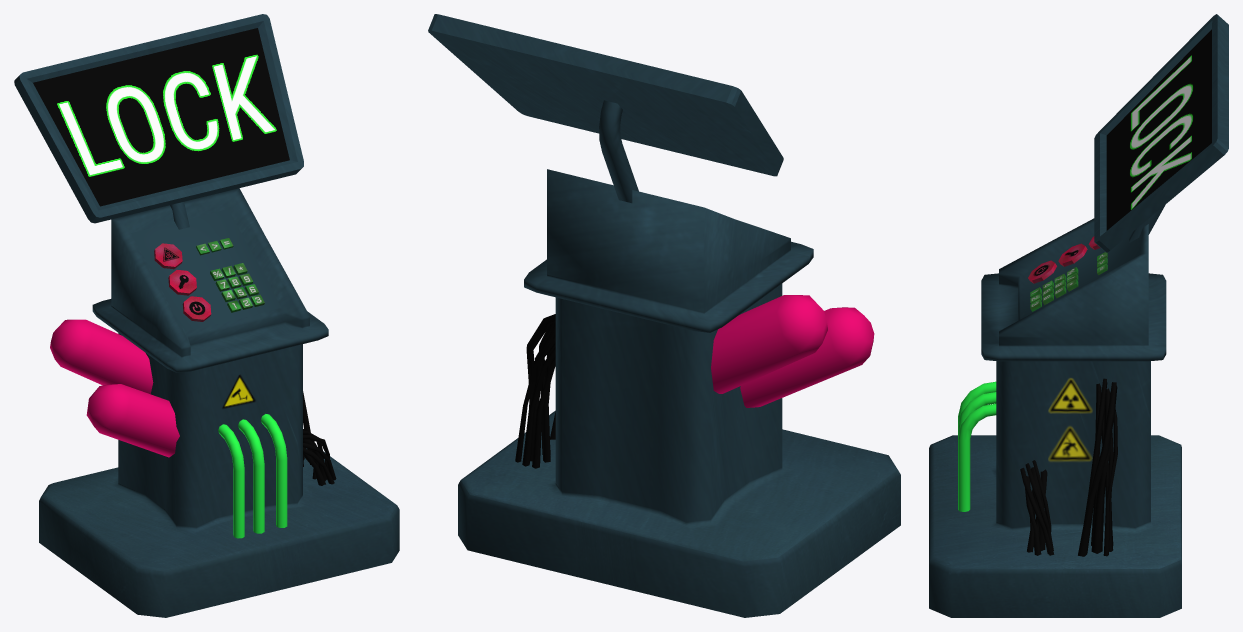
The model's file is server.fbx.
3 views of the same model, side by side, from view 1: azimuth 30°, elevation 25°; view 2: azimuth 150°, elevation 25°; view 3: azimuth 270°, elevation 25° (orthographic). The views are drawn at different scales.
Visible parts, largest first — view 1: Base, Screen, Cylinder.003, Cylinder.004, Buttons, Cylinder.006, Cylinder.005, Cylinder.007, NurbsPath.001; view 2: Base, Screen, Cylinder.003, Cylinder.004, Cable2, Screen_Arm; view 3: Base, Screen, Cable2, Buttons, NurbsPath.001, Cylinder.007, Cylinder.006, Cylinder.005.
Part boxes in pixels (x1,y1,x2,y2): Base: (39,188,399,617); Screen: (14,14,303,223); Cylinder.003: (50,319,153,394); Cylinder.004: (86,384,179,457); Buttons: (154,238,264,321); Cylinder.006: (238,419,264,533); Cylinder.005: (218,424,244,538); Cylinder.007: (260,414,287,527); NurbsPath.001: (303,429,336,485); Base: (458,169,900,617); Screen: (428,14,783,176); Cylinder.003: (711,295,827,393); Cylinder.004: (740,307,874,407); Cable2: (515,314,555,468); Screen_Arm: (599,100,638,203); Base: (929,218,1181,617); Screen: (1094,14,1228,252); Cable2: (1078,378,1117,556); Buttons: (1028,236,1107,311); NurbsPath.001: (1020,460,1054,555); Cylinder.007: (958,403,996,511); Cylinder.006: (958,392,996,437); Cylinder.005: (958,381,996,425).
Bounding box in the file's own units: 93.76 × 147 × 84.21.
Materials: 4 (3 with a texture image).
